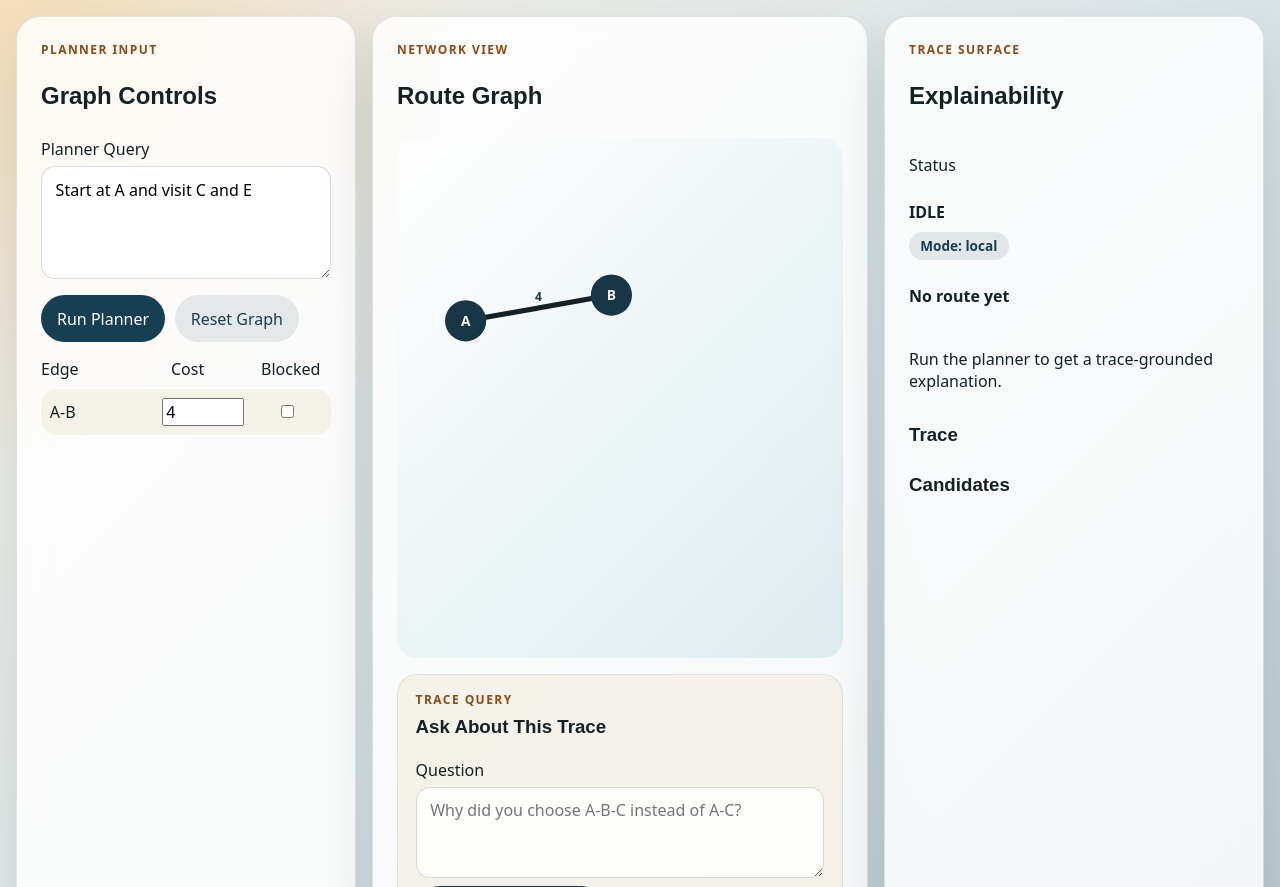
Test case: App › opens and closes a raw trace modal for the selected step
Click the button with test id "run-planner": [103, 319] box [41,295,165,342]
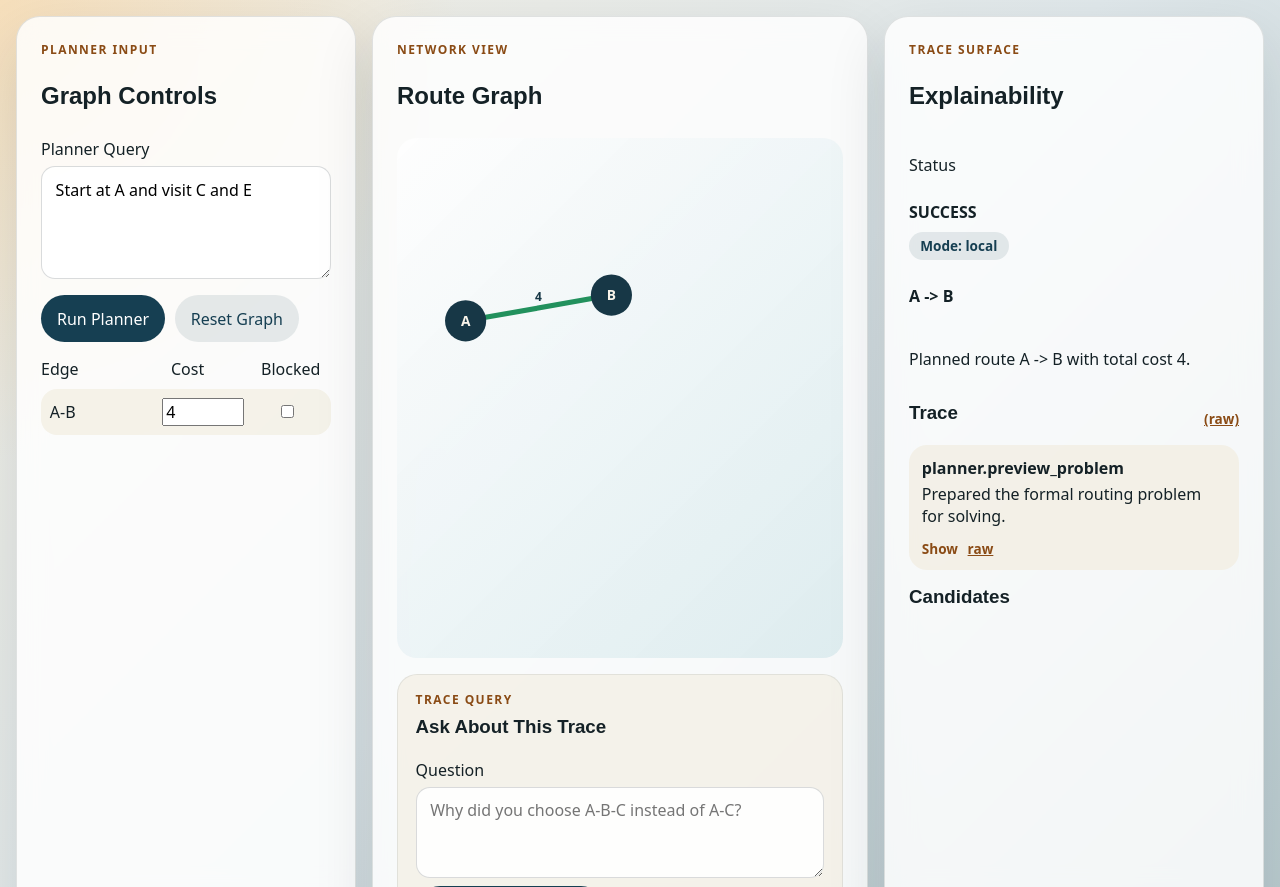
Click the button with test id "trace-raw-0": [980, 548] box [968,539,993,558]
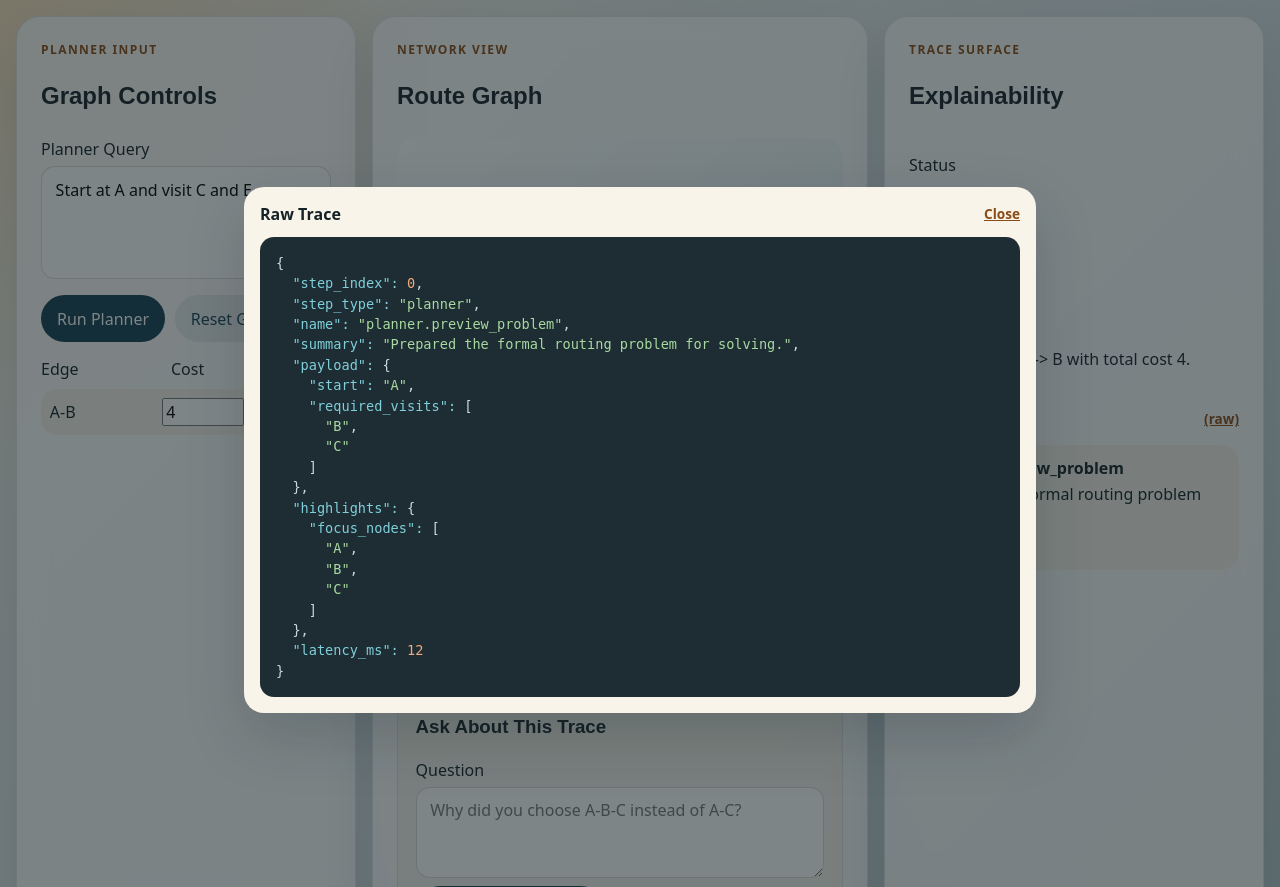
Result: the element with test id "trace-raw-modal" shows "Raw Trace" at [260,203,341,225]
Result: the element with test id "trace-raw-json" shows "\"name\": \"planner.preview_problem\"" at [260,237,1020,697]
Result: the element with test id "trace-raw-json" shows "\"required_visits\": [" at [260,237,1020,697]
Click the button with test id "trace-raw-close": [1002, 214] box [984,204,1020,223]
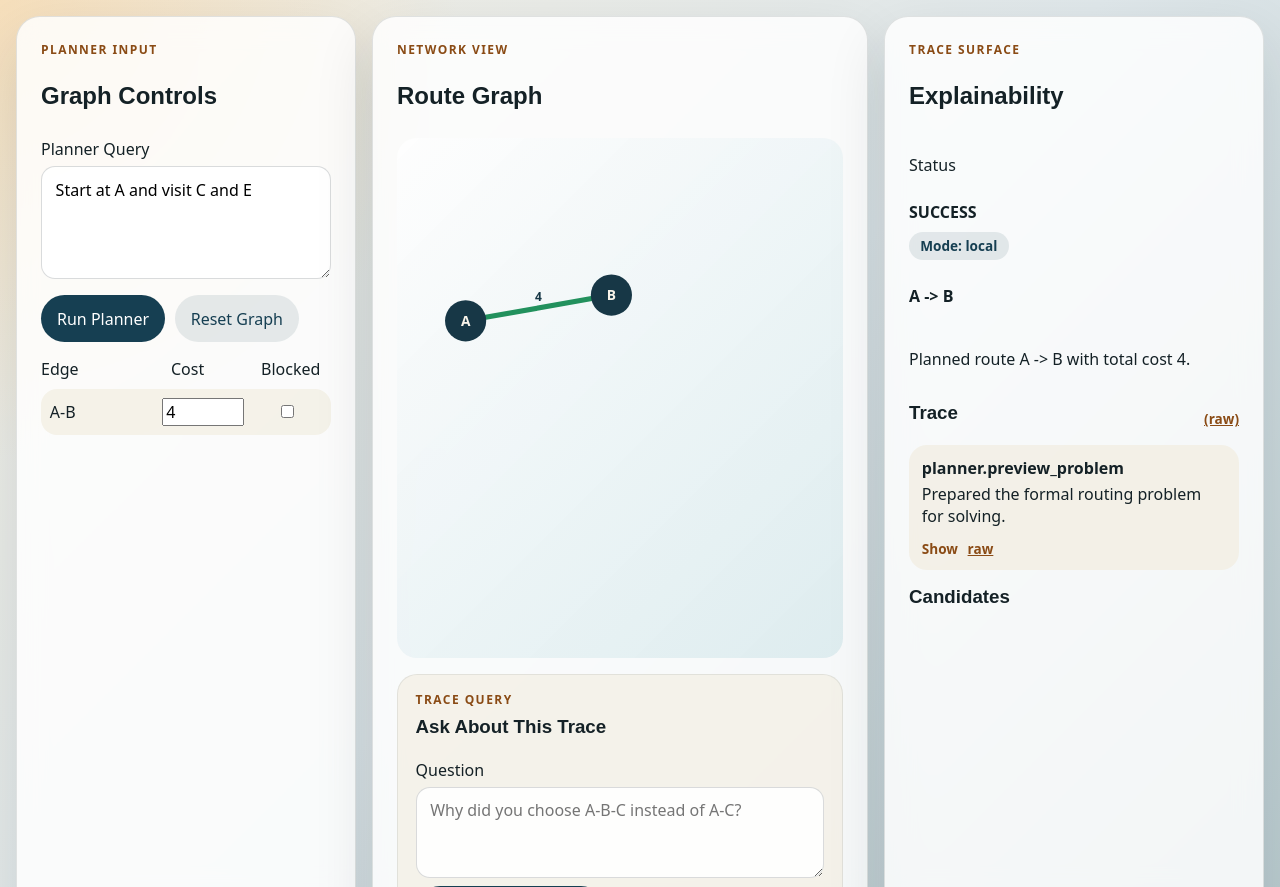
Result: the element with test id "trace-raw-modal" is gone
